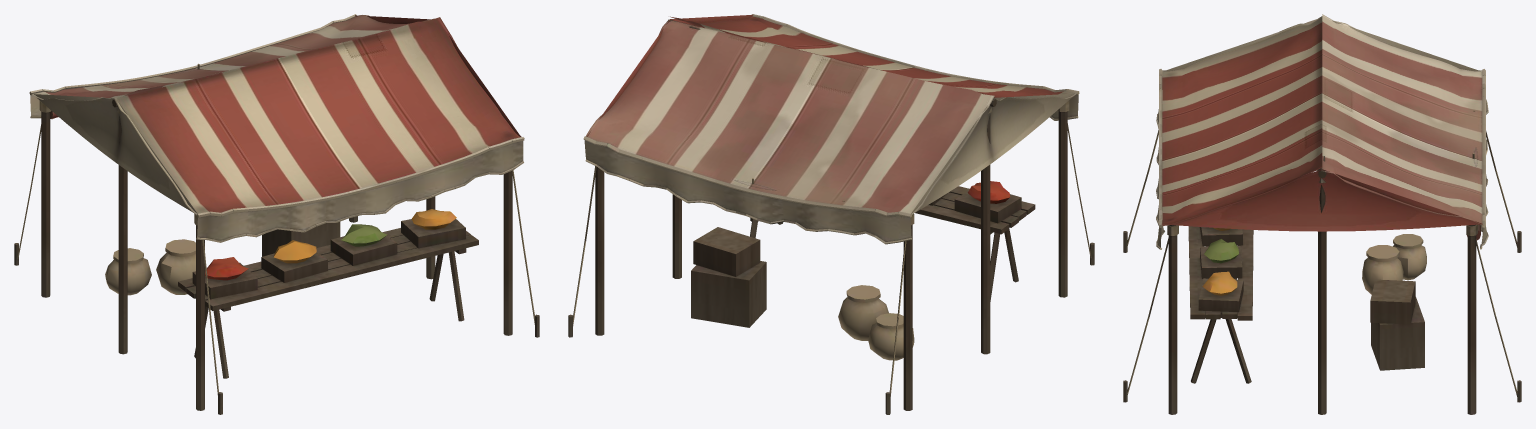
The model's file is vc_tent_a.glb.
3 renders of one model, left to right at view 1: azimuth 30°, elevation 25°; view 2: azimuth 150°, elevation 25°; view 3: azimuth 270°, elevation 25°, orthographic. The views are drawn at different scales.
Visible parts, largest first — view 1: vc_tent_a; view 2: vc_tent_a; view 3: vc_tent_a.
Part boxes in pixels (box(x1,y1,x2,y2)): vc_tent_a: box(14, 14, 539, 414); vc_tent_a: box(568, 14, 1094, 414); vc_tent_a: box(1123, 14, 1521, 414).
Size of the model in its own units: 3.61 by 2.73 by 3.95.
1 material, 1 textured.
